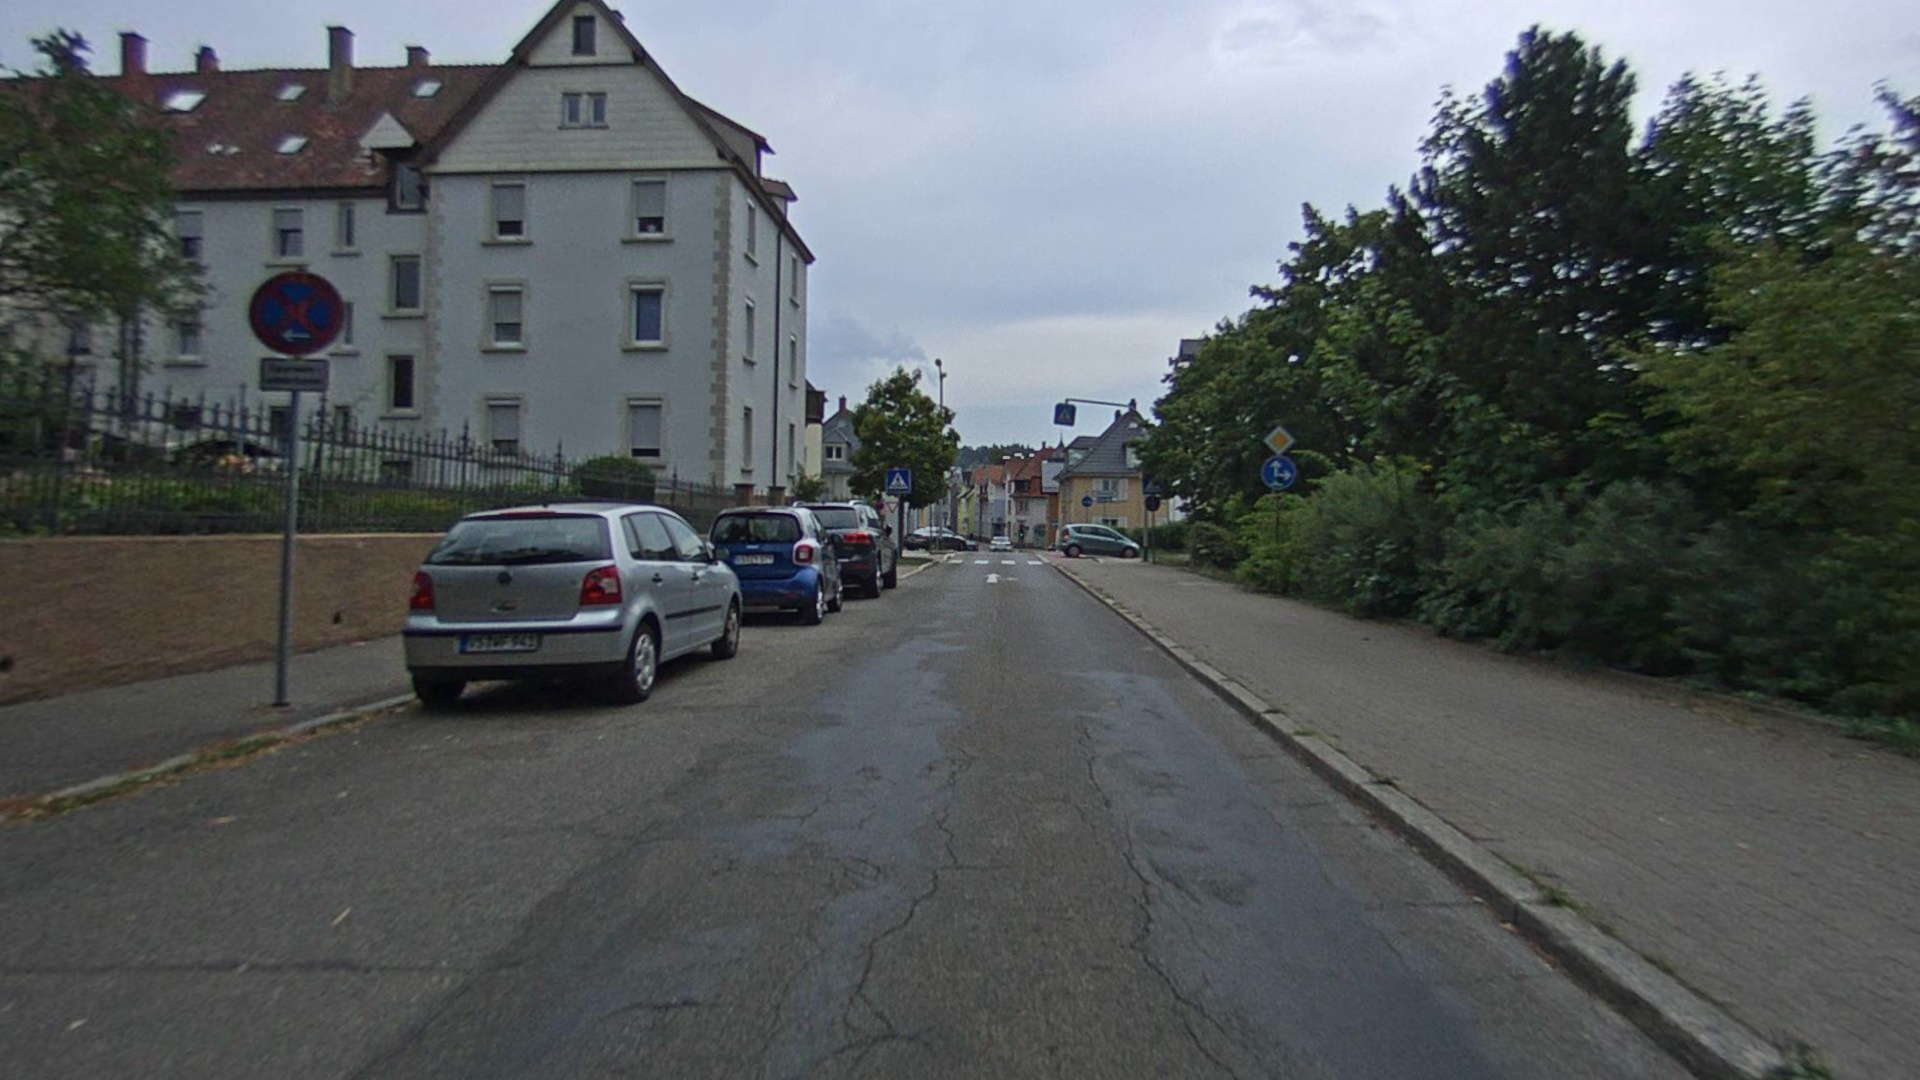car: (398, 501, 746, 700)
